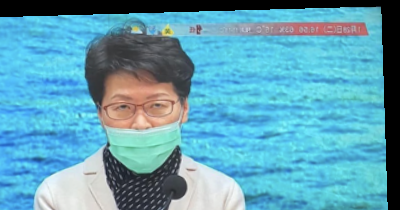mask_weared_incorrect: (79, 25, 214, 180)
